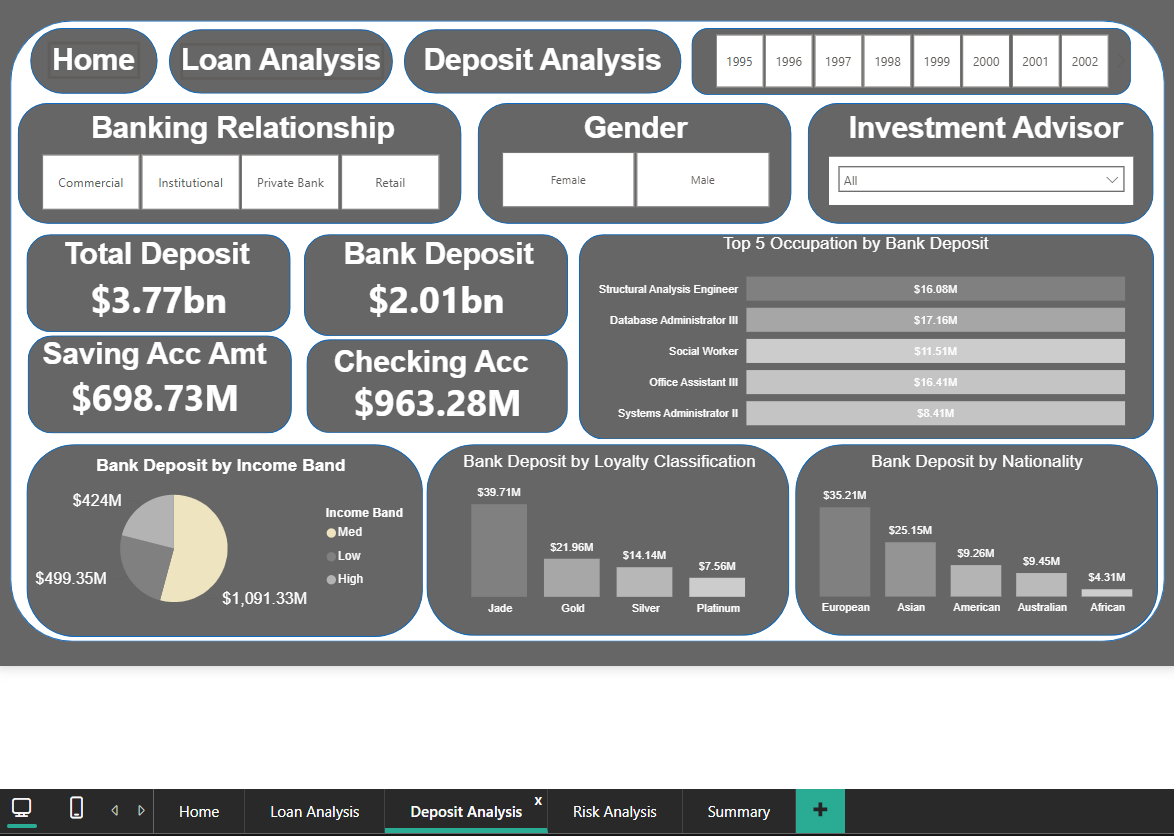

This screenshot's page, from the dashboard's own definition file:
{"tool":"powerbi","page":{"name":"Deposit Analysis","canvas":[1280,720],"ordinal":2},"visuals":[{"type":"shape","box":[17.8,24.7,1244.6,669.6],"z":0},{"type":"shape","box":[189.3,33.2,241.3,69.4],"z":1000},{"type":"textbox","box":[189.3,44.8,241.3,65],"z":2000},{"type":"shape","box":[442.2,33.2,299.1,69.4],"z":3000},{"type":"textbox","box":[442.2,44.8,299.1,72.3],"z":4000},{"type":"shape","box":[39,31.8,137.3,70.8],"z":5000},{"type":"textbox","box":[46.2,44.8,122.8,78],"z":6000},{"type":"shape","box":[751.4,31.8,474,72.3],"z":7000},{"type":"shape","box":[521.7,112.7,338.1,130.1],"z":8000},{"type":"shape","box":[34.7,254.3,284.7,105.5],"z":9000},{"type":"shape","box":[333.8,254.3,284.7,109.8],"z":10000},{"type":"shape","box":[336.7,368.5,281.8,101.2],"z":11000},{"type":"shape","box":[35.2,481,427.6,207.7],"z":12000},{"type":"shape","box":[36.1,364.1,284.7,105.5],"z":13000},{"type":"slicer","fields":{"Values":["Sheet1.Joined Bank.Variation.Date Hierarchy.Year"]},"box":[751.4,31.8,474,70.8],"z":14000},{"type":"slicer","fields":{"Values":["Sheet1.Sex"]},"box":[521.7,159,338.1,73.7],"z":15000},{"type":"textbox","box":[630,117,135.8,62.1],"z":16000},{"type":"textbox","box":[69.5,253.8,231.1,63.8],"z":17000},{"type":"textbox","box":[371.5,253.8,226.9,65.2],"z":18000},{"type":"textbox","box":[361.5,368.6,300.6,70.9],"z":19000},{"type":"card","fields":{"Values":["Measure.Total Deposit"]},"box":[21.7,284.7,312.1,79.5],"z":20000},{"type":"textbox","box":[46.8,361.5,300.6,58.1],"z":21000},{"type":"card","fields":{"Values":["Measure.Total Deposit"]},"box":[637.3,449.4,312.1,79.5],"z":22000},{"type":"card","fields":{"Values":["Measure.Checking Accounts"]},"box":[322.2,395.9,312.1,79.5],"z":23000},{"type":"card","fields":{"Values":["Measure.Savings Account"]},"box":[17.3,390.2,312.1,79.5],"z":24000},{"type":"shape","box":[26,112.7,478.3,130.1],"z":25000},{"type":"slicer","fields":{"Values":["Sheet1.Banking Relationship"]},"box":[26,161.8,478.3,73.7],"z":26000},{"type":"textbox","box":[99.7,117,404.6,78],"z":27000},{"type":"shape","box":[877.1,112.7,372.8,130.1],"z":28000},{"type":"textbox","box":[916.1,117,325.1,59.2],"z":29000},{"type":"slicer","fields":{"Values":["investment-advisiors.Investment Advisor"]},"box":[900.3,170.5,328,52],"z":30000},{"type":"card","fields":{"Values":["Measure.Bank Deposit"]},"box":[320.8,284.7,312.1,79.5],"z":31000},{"type":"pieChart","fields":{"Category":["Sheet1.Income Band"],"Y":["Measure.Bank Deposit"]},"box":[25.5,493.4,438.1,180.1],"z":32000},{"type":"shape","box":[630,254.3,619.9,221.1],"z":33000},{"type":"hundredPercentStackedBarChart","title":"Top 5 Occupation by Bank Deposit","fields":{"Category":["Sheet1.Occupation"],"Y":["Sum(Sheet1.Bank Deposits)"]},"box":[633.8,253.8,591.2,226.9],"z":34000},{"type":"shape","box":[863.6,481,391.1,206.5],"z":35000},{"type":"shape","box":[466.4,481,391.1,206.5],"z":36000},{"type":"clusteredColumnChart","title":" Bank Deposit by Nationality","fields":{"Category":["Sheet1.Nationality"],"Y":["Sum(Sheet1.Bank Deposits)"]},"box":[857.8,489.1,405.5,184.3],"z":37000},{"type":"clusteredColumnChart","title":"Bank Deposit by Loyalty Classification","fields":{"Category":["Sheet1.Loyalty Classification"],"Y":["Sum(Sheet1.Bank Deposits)"]},"box":[478.6,489.5,370.5,184.6],"z":38000},{"type":"actionButton","box":[58.3,47.4,99.6,40.1],"z":39000},{"type":"actionButton","box":[201.3,48.2,219.8,39.7],"z":40000}]}

Visuals, with their boxes on the page's 1280x720 design canvas (x1, y1, x2, y2). These are canvas units, not pixel positions in the 1174x836 screenshot, which may show the page scaled, cropped or inside an application window:
shape: (x1=18, y1=25, x2=1262, y2=694)
shape: (x1=189, y1=33, x2=431, y2=103)
textbox: (x1=189, y1=45, x2=431, y2=110)
shape: (x1=442, y1=33, x2=741, y2=103)
textbox: (x1=442, y1=45, x2=741, y2=117)
shape: (x1=39, y1=32, x2=176, y2=103)
textbox: (x1=46, y1=45, x2=169, y2=123)
shape: (x1=751, y1=32, x2=1225, y2=104)
shape: (x1=522, y1=113, x2=860, y2=243)
shape: (x1=35, y1=254, x2=319, y2=360)
shape: (x1=334, y1=254, x2=618, y2=364)
shape: (x1=337, y1=368, x2=618, y2=470)
shape: (x1=35, y1=481, x2=463, y2=689)
shape: (x1=36, y1=364, x2=321, y2=470)
slicer - Sheet1.Joined Bank.Variation.Date Hierarchy.Year: (x1=751, y1=32, x2=1225, y2=103)
slicer - Sheet1.Sex: (x1=522, y1=159, x2=860, y2=233)
textbox: (x1=630, y1=117, x2=766, y2=179)
textbox: (x1=70, y1=254, x2=301, y2=318)
textbox: (x1=372, y1=254, x2=598, y2=319)
textbox: (x1=362, y1=369, x2=662, y2=440)
card - Measure.Total Deposit: (x1=22, y1=285, x2=334, y2=364)
textbox: (x1=47, y1=362, x2=347, y2=420)
card - Measure.Total Deposit: (x1=637, y1=449, x2=949, y2=529)
card - Measure.Checking Accounts: (x1=322, y1=396, x2=634, y2=475)
card - Measure.Savings Account: (x1=17, y1=390, x2=329, y2=470)
shape: (x1=26, y1=113, x2=504, y2=243)
slicer - Sheet1.Banking Relationship: (x1=26, y1=162, x2=504, y2=236)
textbox: (x1=100, y1=117, x2=504, y2=195)
shape: (x1=877, y1=113, x2=1250, y2=243)
textbox: (x1=916, y1=117, x2=1241, y2=176)
slicer - investment-advisiors.Investment Advisor: (x1=900, y1=170, x2=1228, y2=222)
card - Measure.Bank Deposit: (x1=321, y1=285, x2=633, y2=364)
pieChart - Sheet1.Income Band x Measure.Bank Deposit: (x1=26, y1=493, x2=464, y2=674)
shape: (x1=630, y1=254, x2=1250, y2=475)
"Top 5 Occupation by Bank Deposit" hundredPercentStackedBarChart: (x1=634, y1=254, x2=1225, y2=481)
shape: (x1=864, y1=481, x2=1255, y2=688)
shape: (x1=466, y1=481, x2=858, y2=688)
" Bank Deposit by Nationality" clusteredColumnChart: (x1=858, y1=489, x2=1263, y2=673)
"Bank Deposit by Loyalty Classification" clusteredColumnChart: (x1=479, y1=490, x2=849, y2=674)
actionButton: (x1=58, y1=47, x2=158, y2=88)
actionButton: (x1=201, y1=48, x2=421, y2=88)
